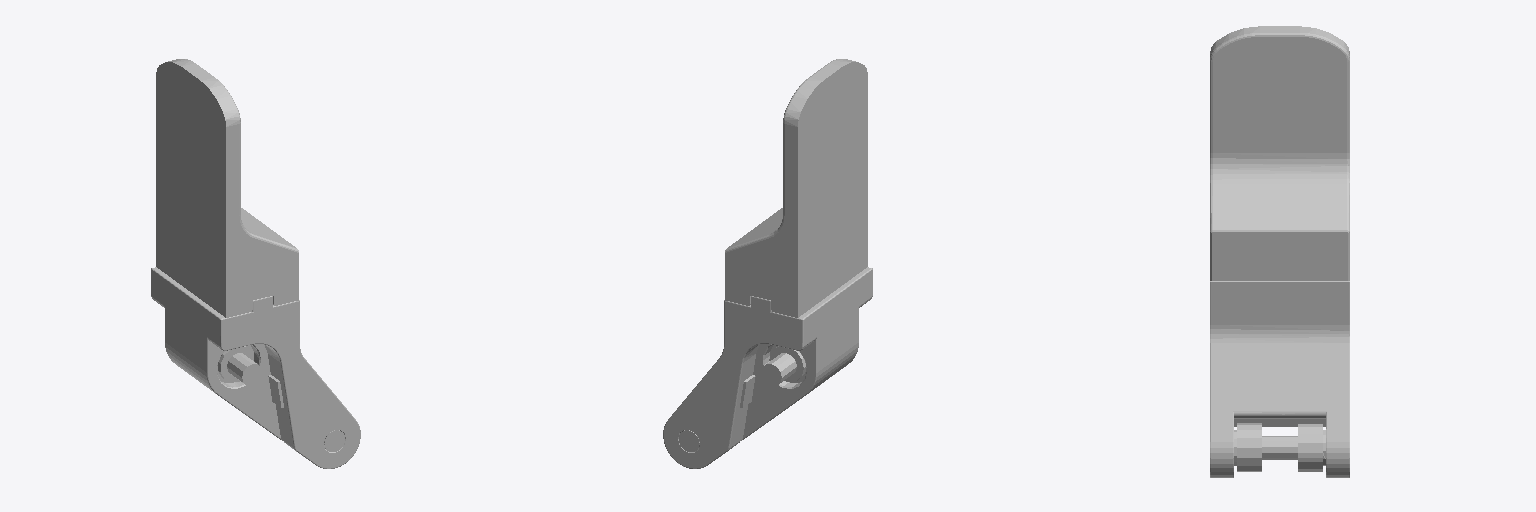
File: support_link.obj
3 renders of one model, left to right at view 1: azimuth 30°, elevation 25°; view 2: azimuth 150°, elevation 25°; view 3: azimuth 270°, elevation 25°, orthographic.
Parts seen in each view (by area): view 1: Left_Support_Link; view 2: Left_Support_Link; view 3: Left_Support_Link.
Boxes of the visible parts, x1,y1,x2,y2 form: Left_Support_Link: [151, 59, 360, 468]; Left_Support_Link: [663, 59, 872, 468]; Left_Support_Link: [1210, 26, 1349, 477].
Size of the model in its own units: 0.0265 by 0.0716 by 0.023.